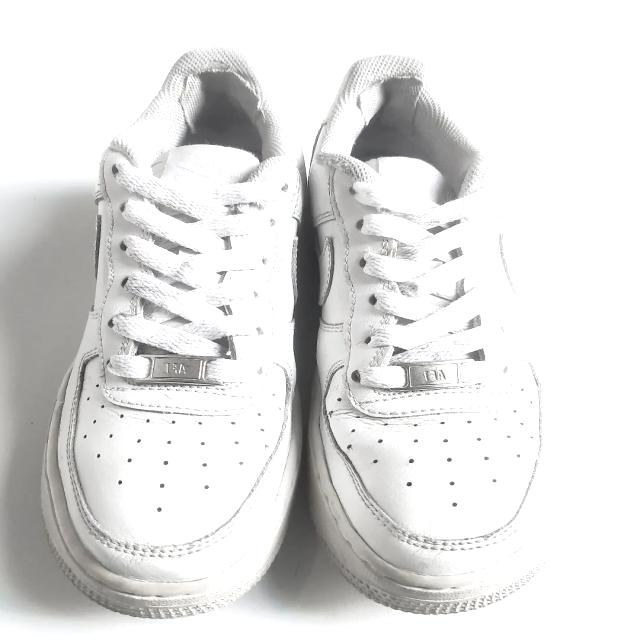nike_fake_airforce: (38, 56, 306, 627), (308, 55, 560, 610)
